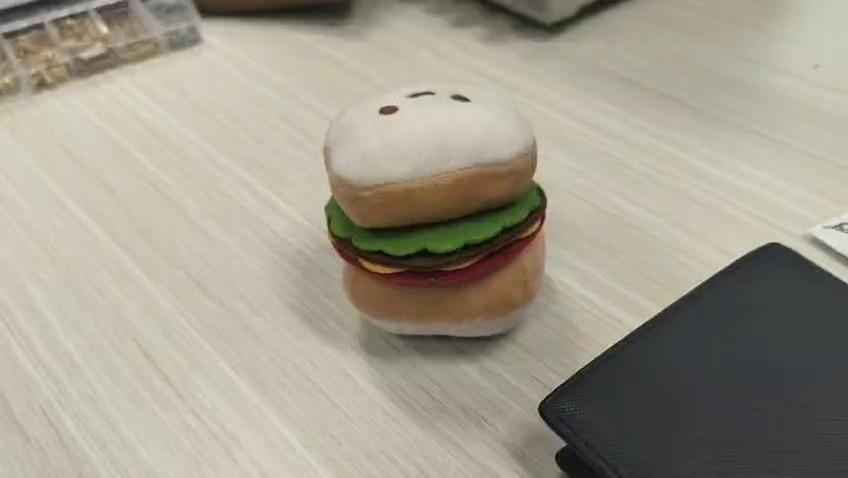objects: (320, 82, 546, 341)
